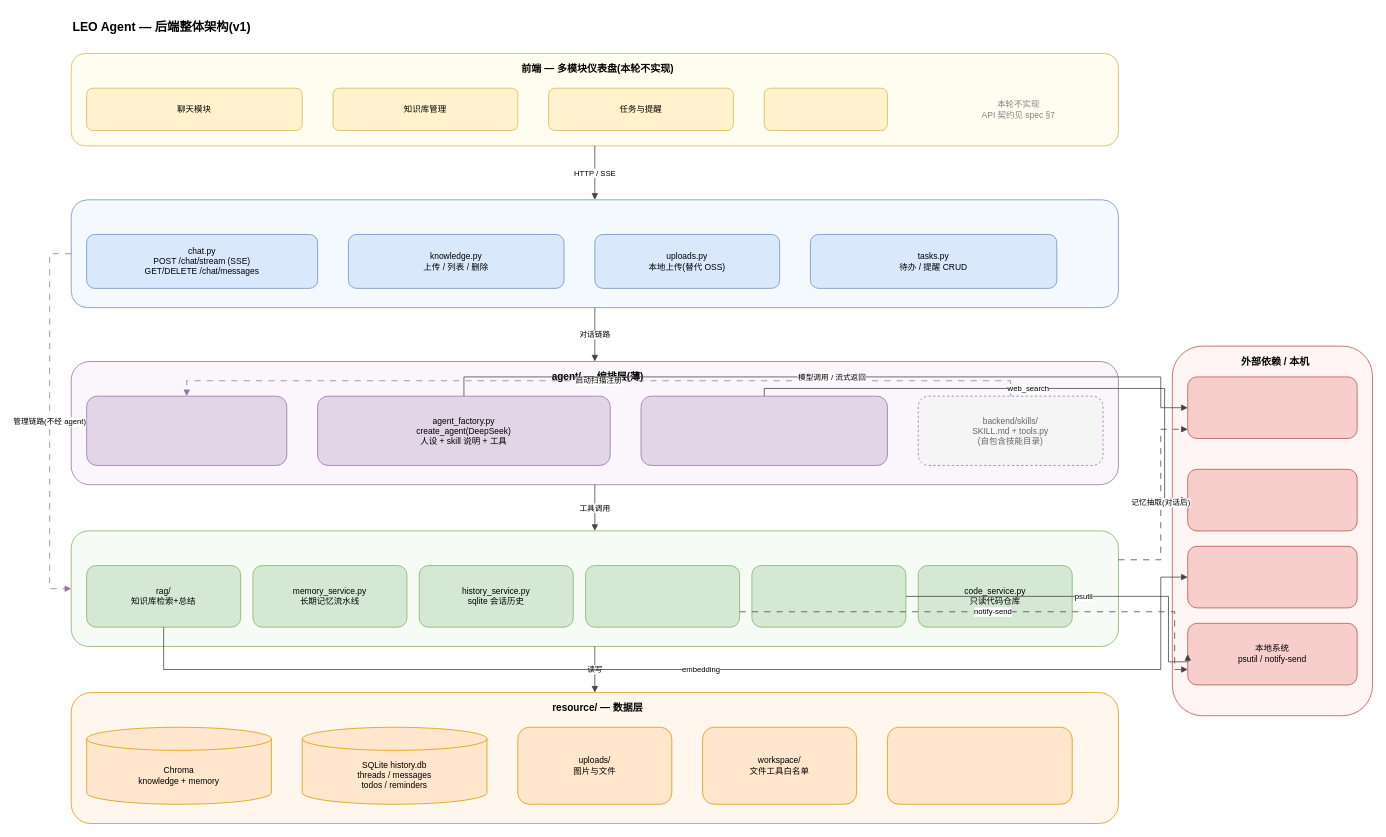
The diagram is 1386 pixels wide and 837 high, and some of its shapes have lost their labels. Each missing label, with the box of its shape:
DashScope text-embedding-v3: (1187, 546, 1357, 608)
DeepSeek API deepseek-chat(主模型): (1187, 376, 1357, 439)
FastAPI — api/v1/: (70, 199, 1118, 308)
prompts/*.txt md5.txt: (887, 726, 1072, 804)
scheduler.py APScheduler 提醒调度: (585, 565, 740, 627)
services/ — 服务层(厚): (70, 530, 1118, 646)
skills_loader.py 启动扫描 skills/ 注册: (86, 395, 287, 465)
system_service.py psutil / 白名单文件: (751, 565, 906, 627)
Tavily API 网络搜索: (1187, 469, 1357, 531)
tools/ 内置工具 知识库 / 网络 / 系统 / 编码 / 记忆: (640, 395, 887, 465)
设置: (763, 87, 887, 131)
